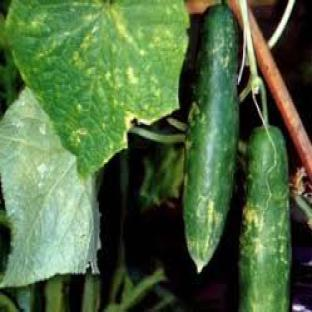Cucumber: (183, 5, 239, 271), (240, 127, 290, 311)
